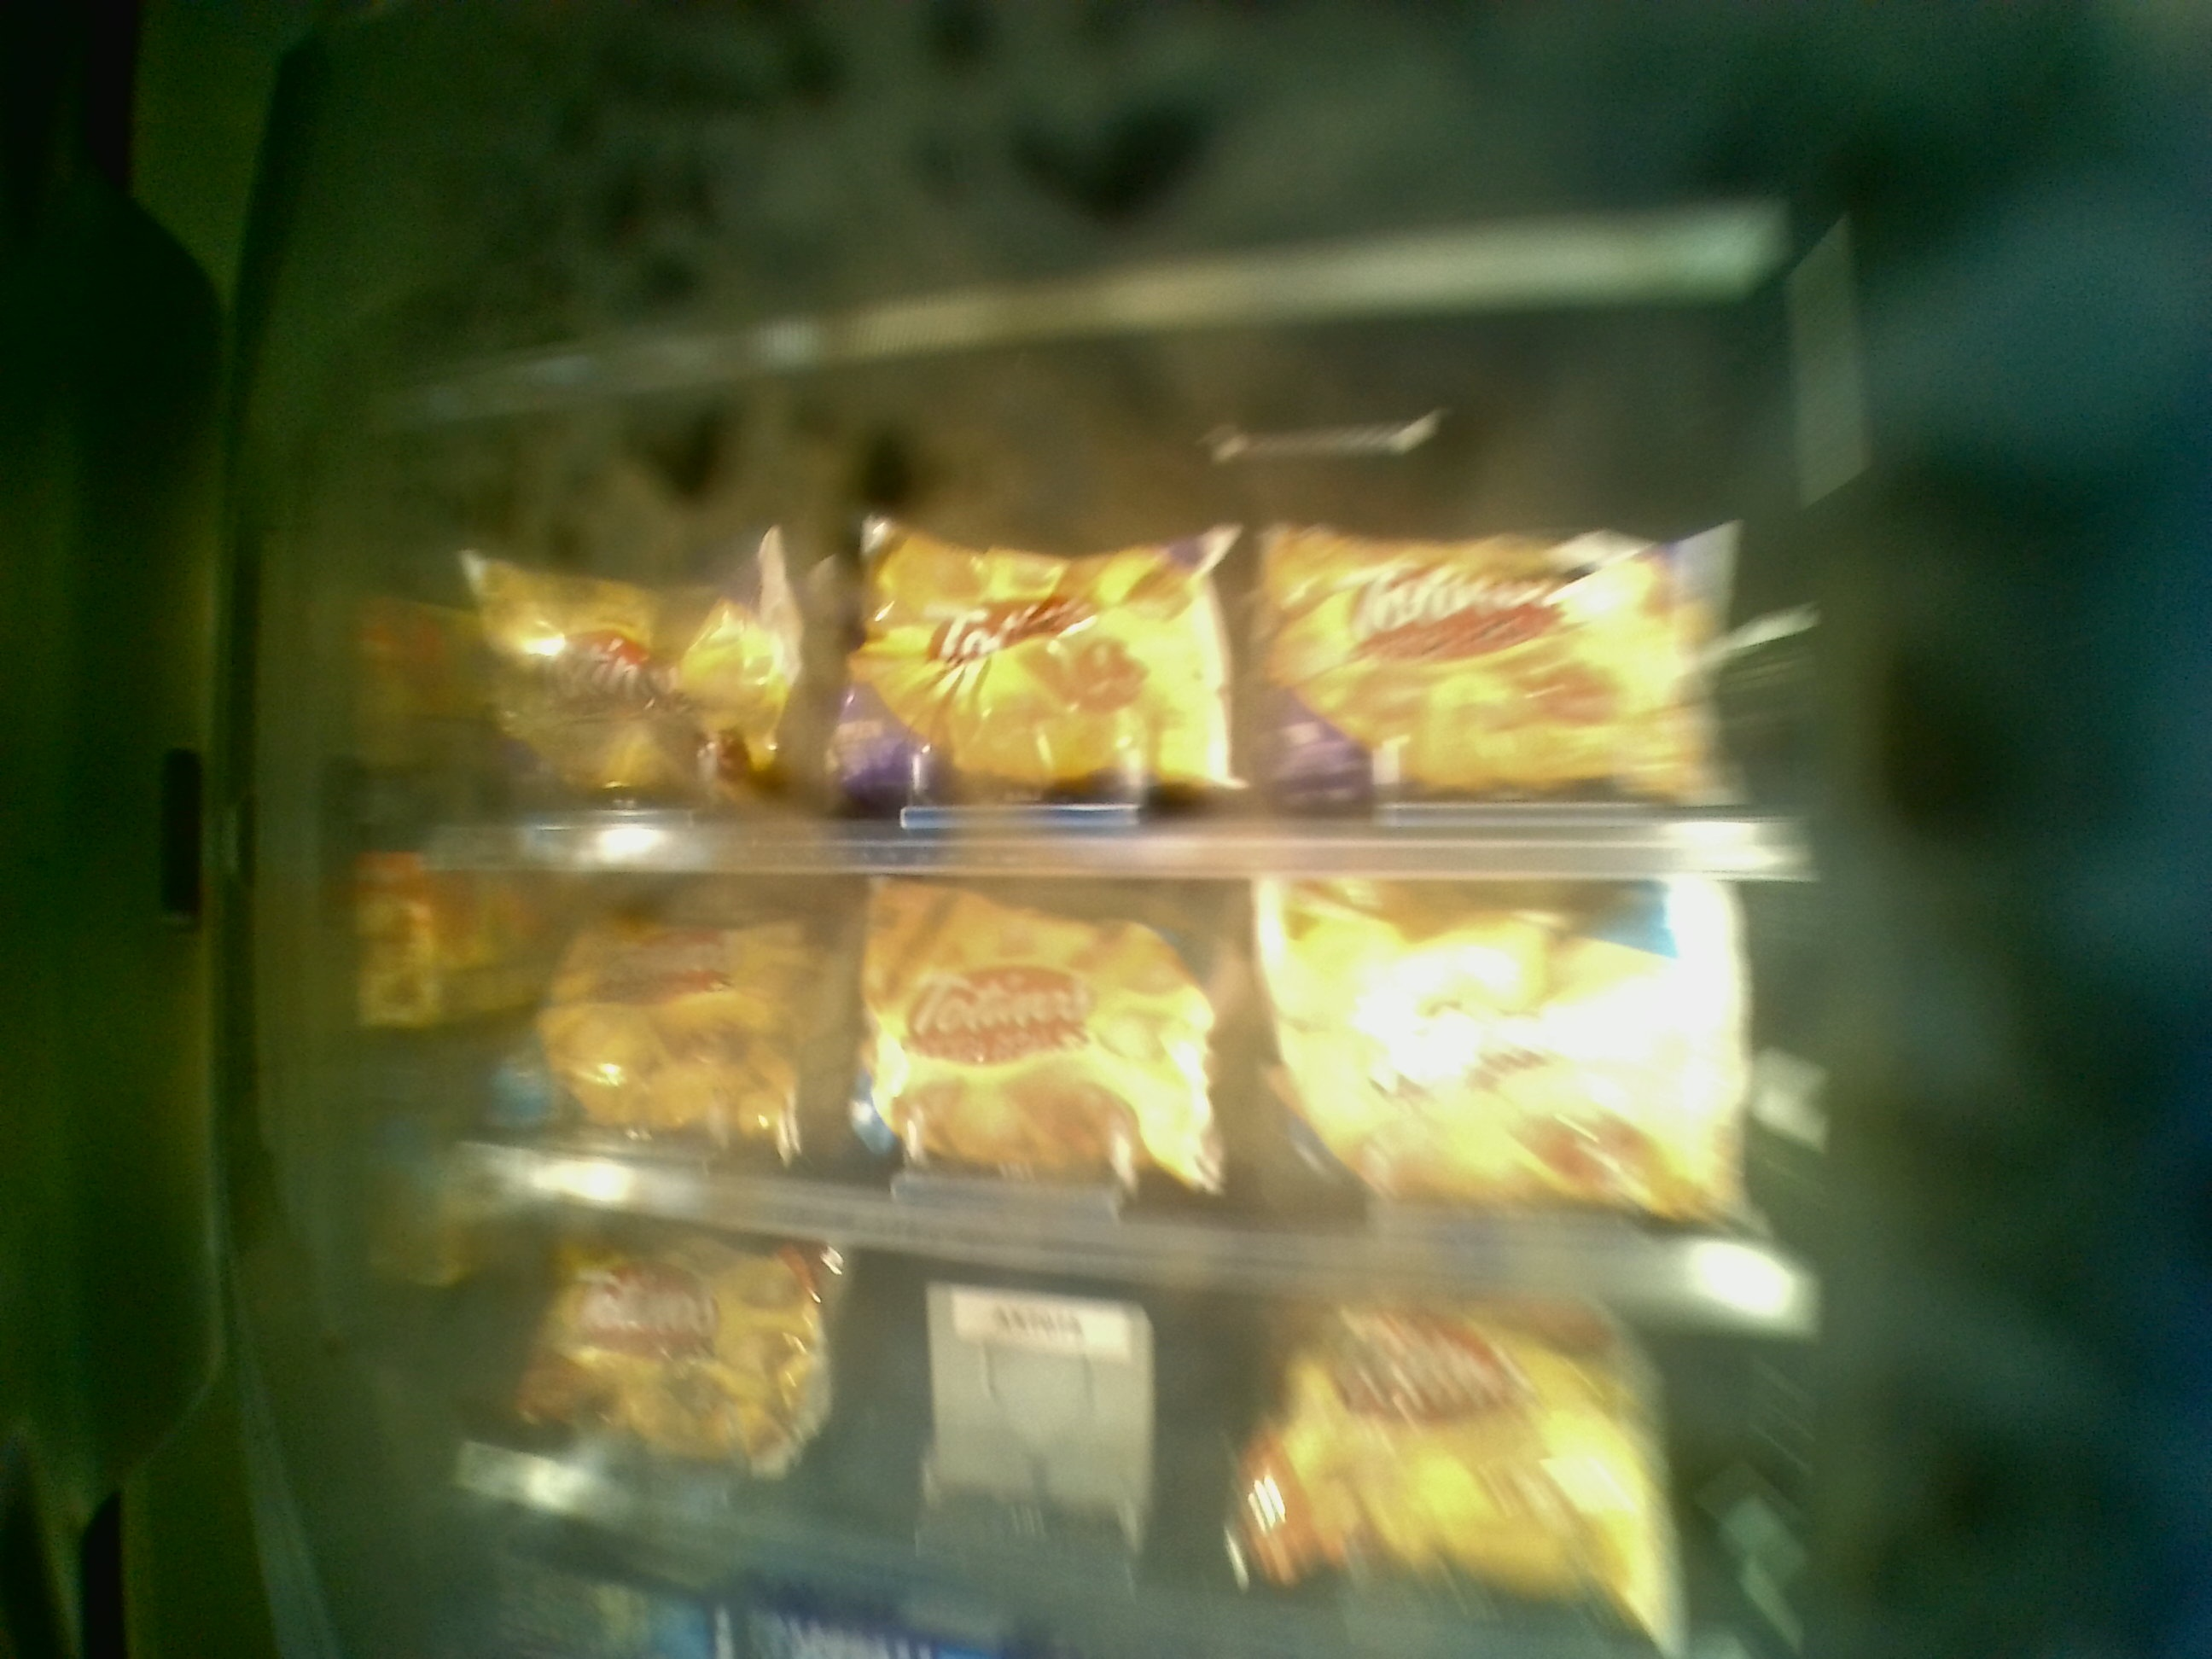shelf: (456, 850, 1775, 1290), (427, 462, 1775, 840)
